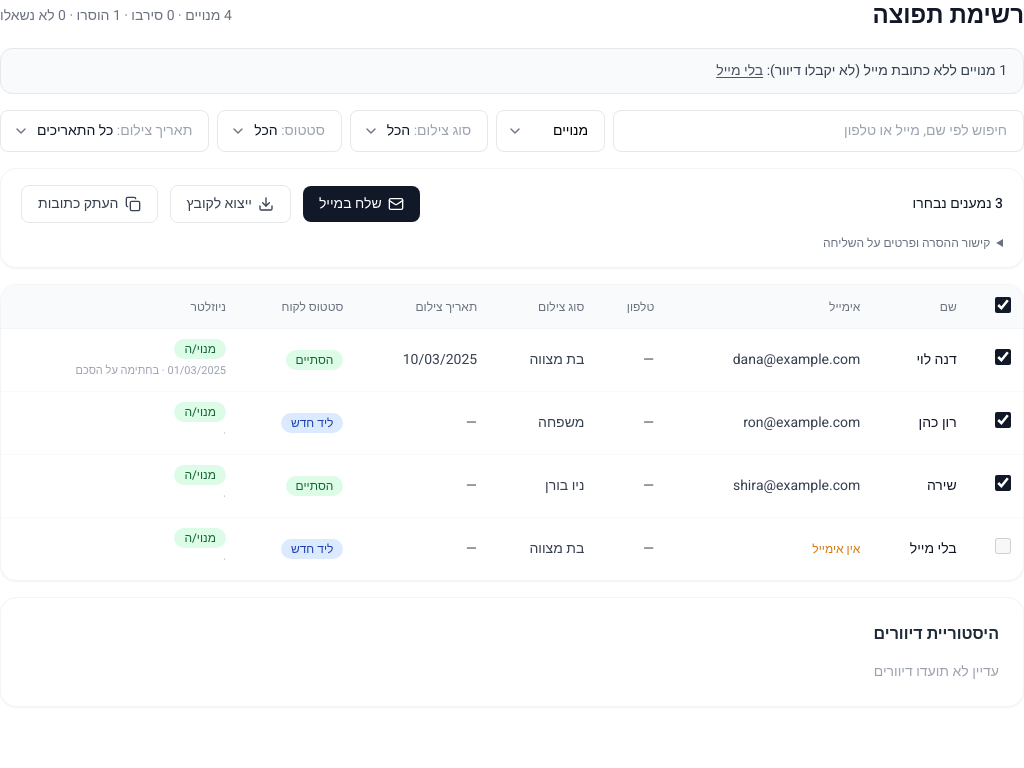
Test: MailingList › opens Gmail with the selected recipients in BCC and ad subject, and copies the footer with a hidden unsubscribe link
Click the checkbox named "בחר את רון כהן": click(1003, 420) [995,412,1011,428]
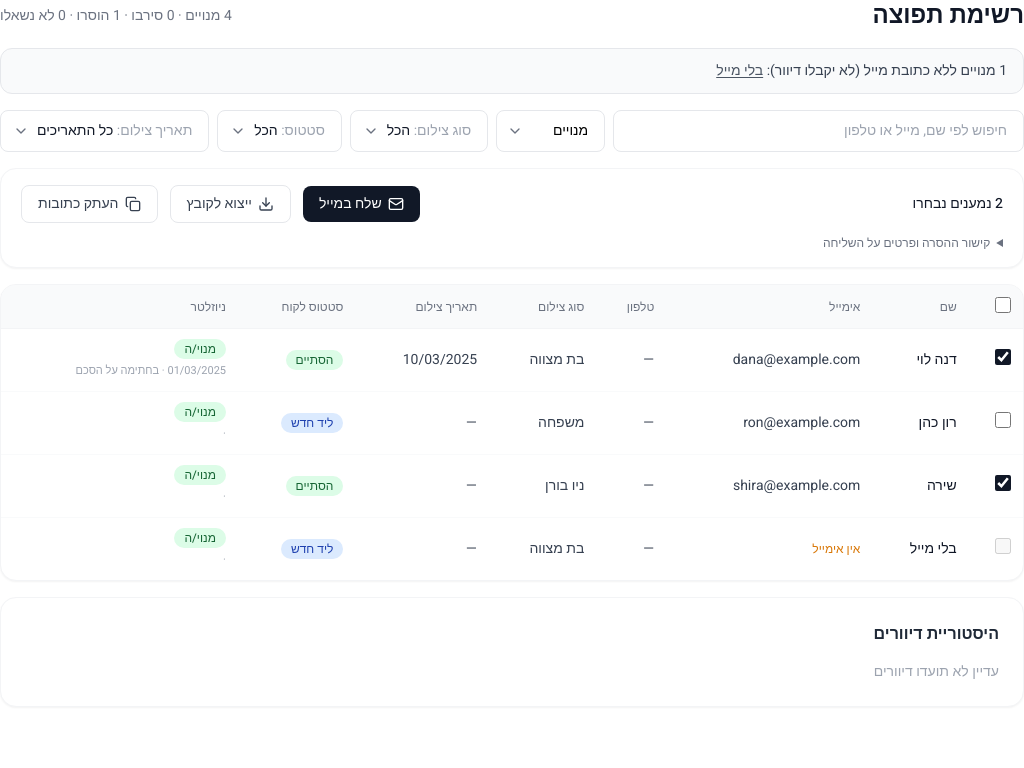
Click the button "שלח במייל": click(361, 204) [303,186,420,222]
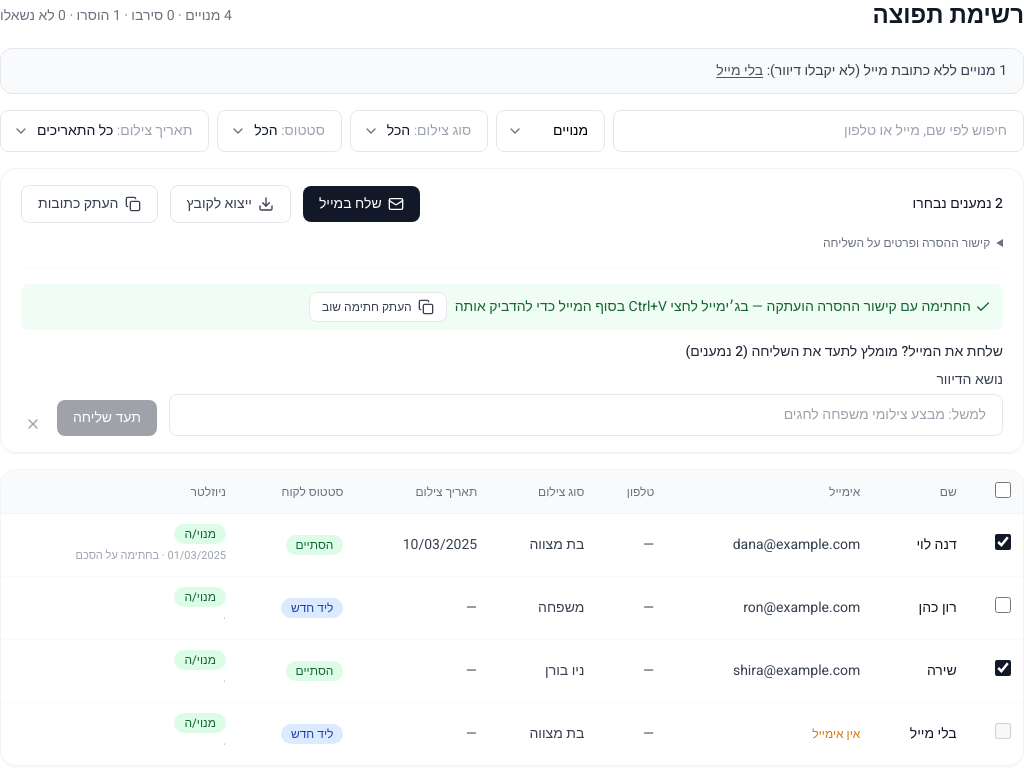
Now the text "החתימה עם קישור ההסרה הועתקה" is shown, box [455,296,971,317]
